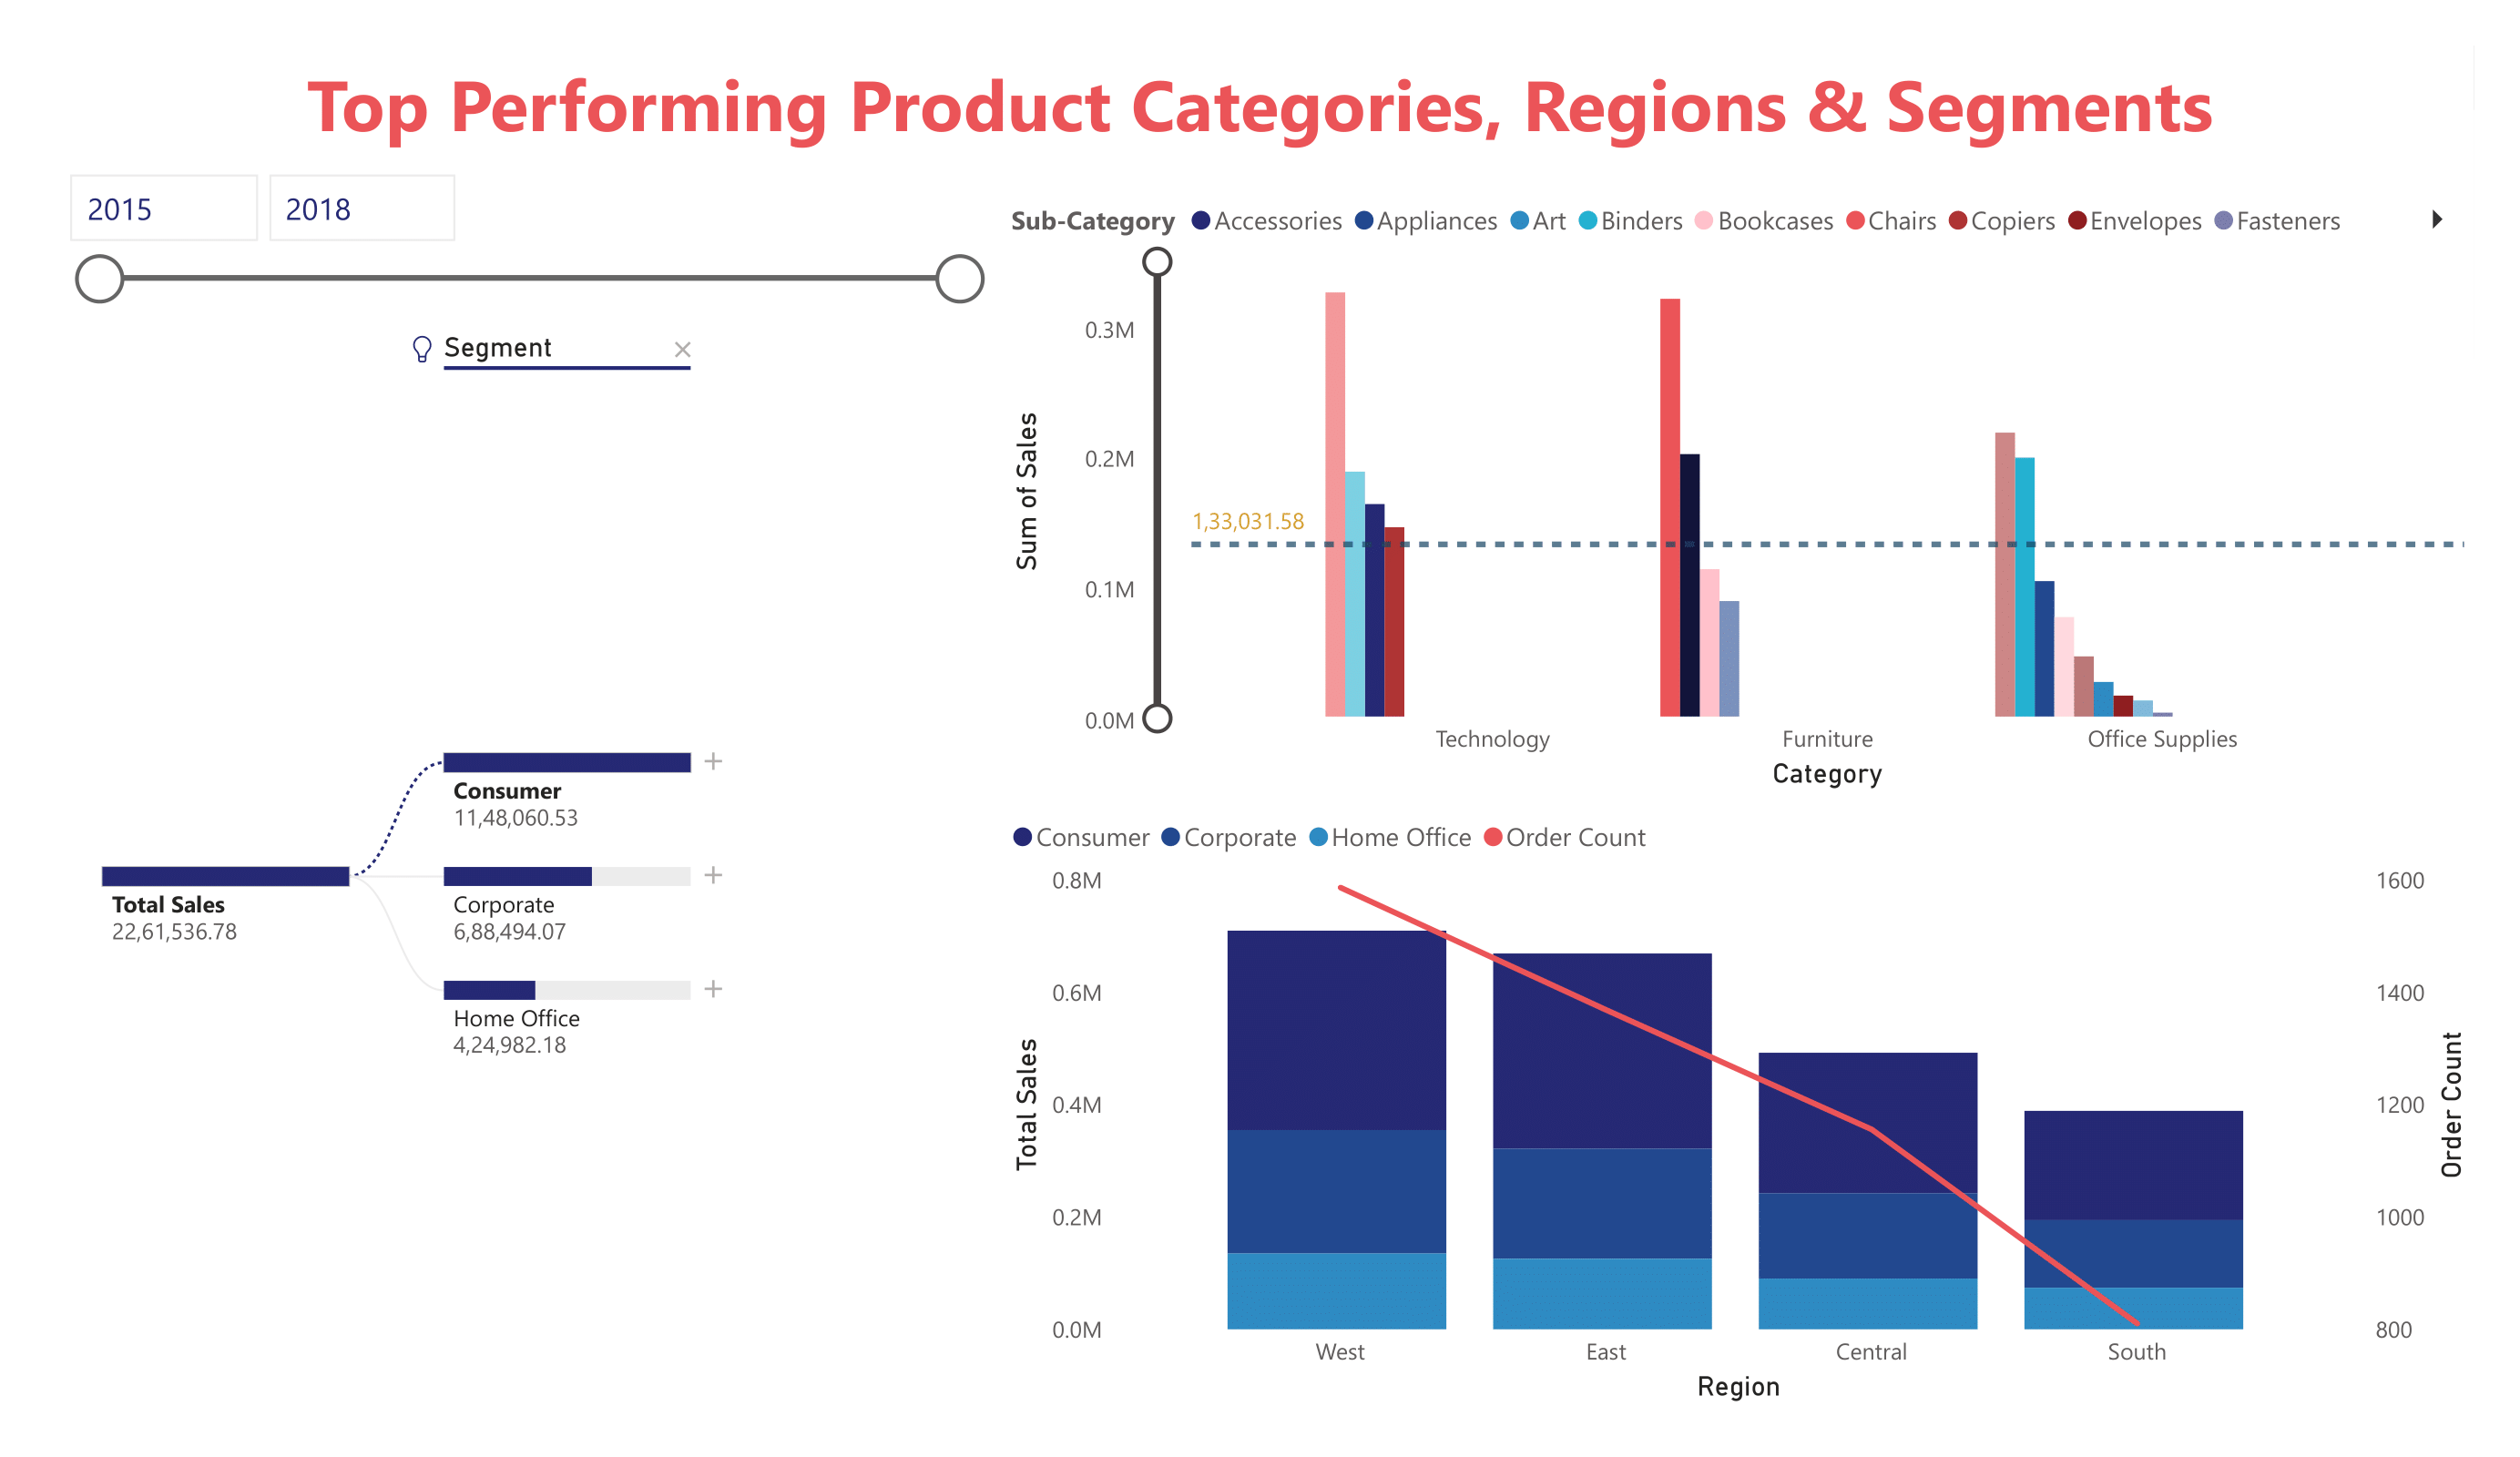

What the dashboard file says about the page in this screenshot:
{"tool":"powerbi","page":{"name":"Top Performing Analysis","canvas":[1280,720],"ordinal":1},"visuals":[{"type":"decompositionTreeVisual","fields":{"Analyze":["sales_data.Total Sales"],"ExplainBy":["sales_data.Segment","sales_data.Category","sales_data.Region","sales_data.City"]},"box":[0,134.4,503.4,585.6],"z":0},{"type":"clusteredColumnChart","fields":{"Category":["sales_data.Category"],"Y":["Sum(sales_data.Sales)"],"Series":["sales_data.Sub-Category"]},"box":[504.1,71.5,775.9,325.4],"z":1000},{"type":"lineStackedColumnComboChart","fields":{"Y":["sales_data.Total Sales"],"Category":["sales_data.Region"],"Y2":["sales_data.Order Count"],"Series":["sales_data.Segment"]},"box":[504.1,396.9,775.9,323.6],"z":2000},{"type":"textbox","box":[0,0,1280,71.5],"z":3000},{"type":"slicer","title":"Year","fields":{"Values":["sales_data.Order Date.Variation.Date Hierarchy.Year"]},"box":[0,58.3,503.4,91.1],"z":4000}]}

Visuals, with their boxes on the page's 1280x720 design canvas (x1, y1, x2, y2). These are canvas units, not pixel positions in the 2520x1457 screenshot, which may show the page scaled, cropped or inside an application window:
decompositionTreeVisual - sales_data.Total Sales x sales_data.Segment: Rect(0, 134, 503, 720)
clusteredColumnChart - sales_data.Category x Sum(sales_data.Sales): Rect(504, 72, 1280, 397)
lineStackedColumnComboChart - sales_data.Total Sales x sales_data.Region: Rect(504, 397, 1280, 720)
textbox: Rect(0, 0, 1280, 72)
"Year" slicer: Rect(0, 58, 503, 149)
